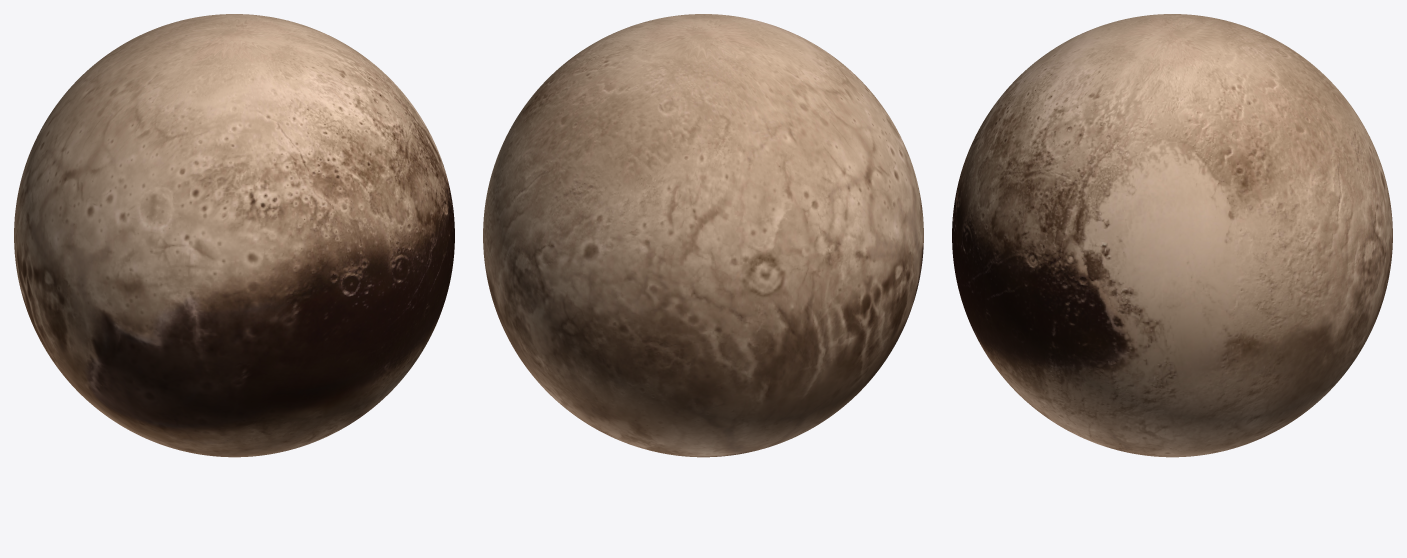
The model's file is Pluto.glb.
3 renders of one model, left to right at view 1: azimuth 30°, elevation 25°; view 2: azimuth 150°, elevation 25°; view 3: azimuth 270°, elevation 25°, orthographic.
Visible parts, largest first — view 1: Object_4; view 2: Object_4; view 3: Object_4.
Boxes of the visible parts, <box> form: Object_4: <box>14,14,454,457</box>; Object_4: <box>483,14,923,457</box>; Object_4: <box>952,14,1392,457</box>.
Bounding box in the file's own units: 1.71 × 2.18 × 1.71.
Materials: 1 (1 with a texture image).
